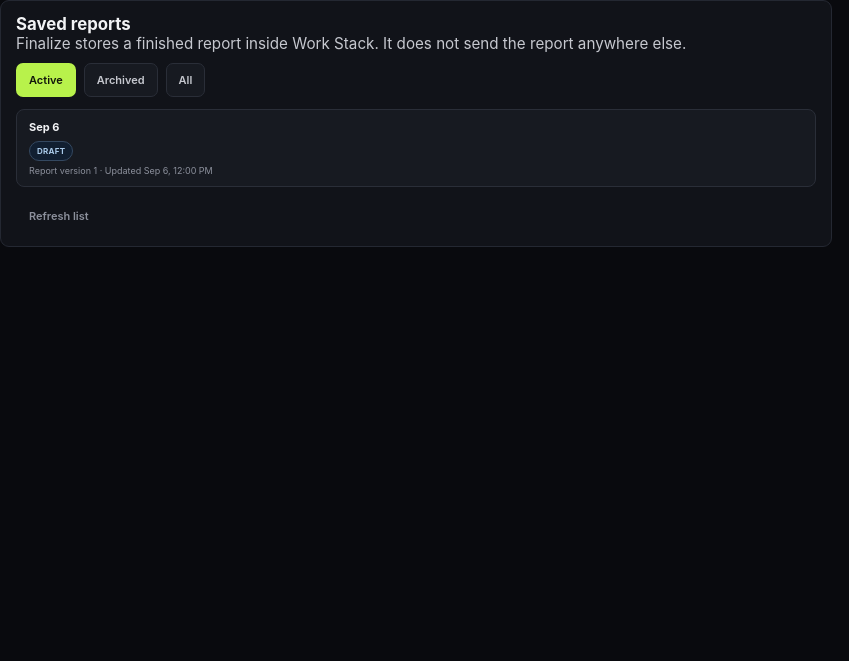
Test case: finalize posts expected_revision with a stable key and does not claim success from the click
What coordinates should you click on to do the following:
click the text "Report version 1 · Updated Sep 6, 12:00 PM"
I would click on:
 (121, 170)
Its box is [29,165,213,176].
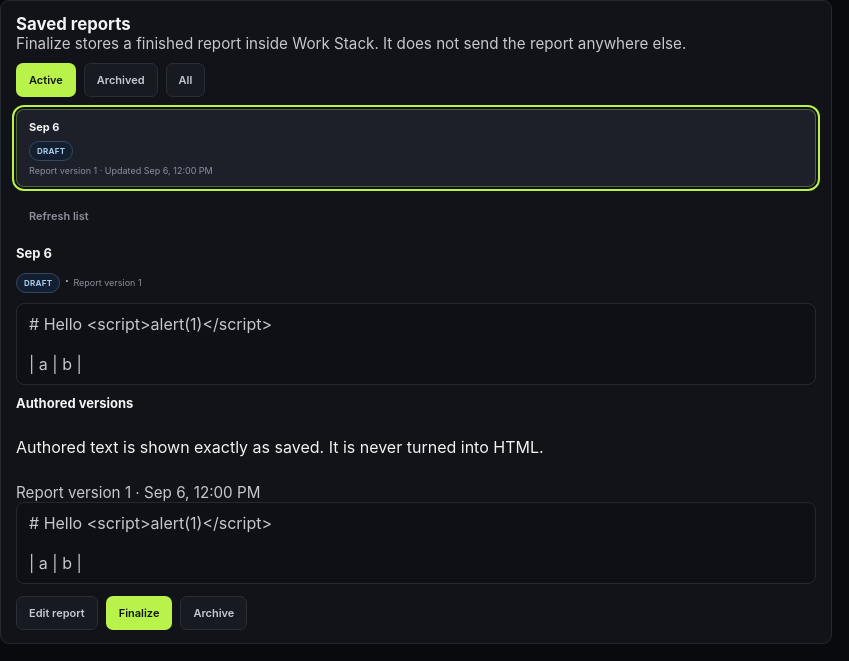
expect the button "Finalize" is shown: met
What coordinates should you click on to do the following:
click the button "Finalize"
I would click on:
 (139, 613)
Its box is [106,596,172,630].
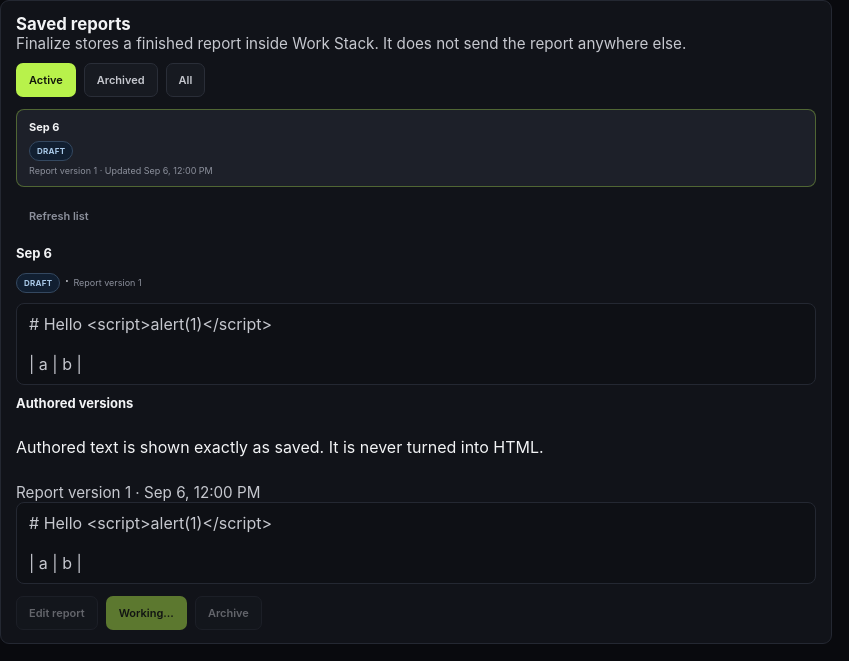
expect the text "Finalized" is not shown: met
expect the button "Working…" is disabled: met
What coordinates should you click on to do the following:
click the button "Working…"
I would click on:
 (146, 613)
Its box is [106,596,187,630].
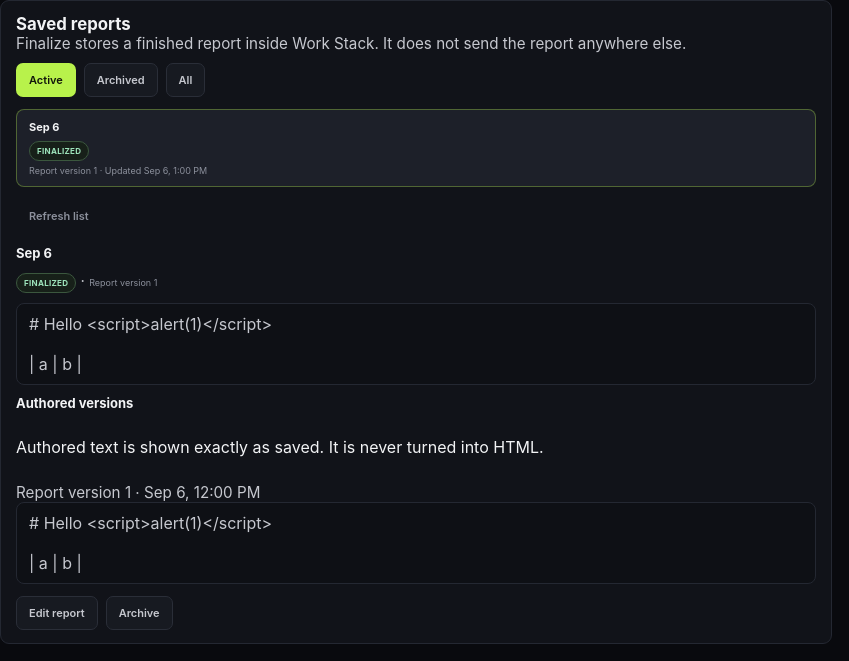
expect the 1st text "Finalized" is shown: met, box [29,141,89,161]
